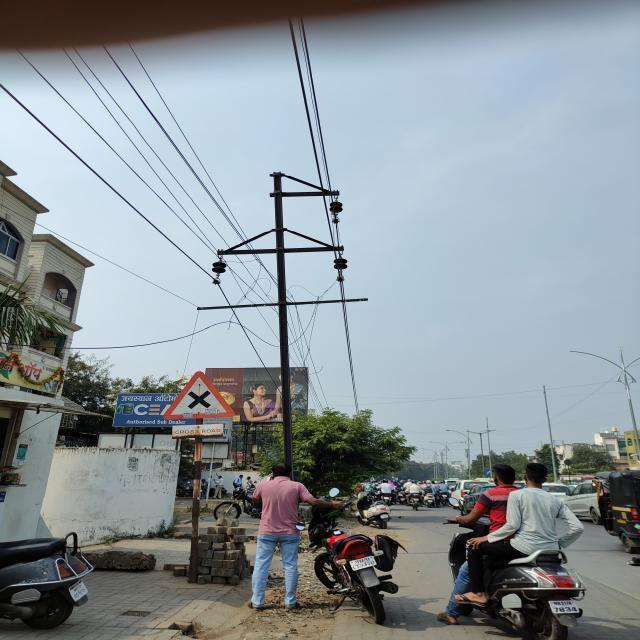cross road: (156, 364, 238, 425)
